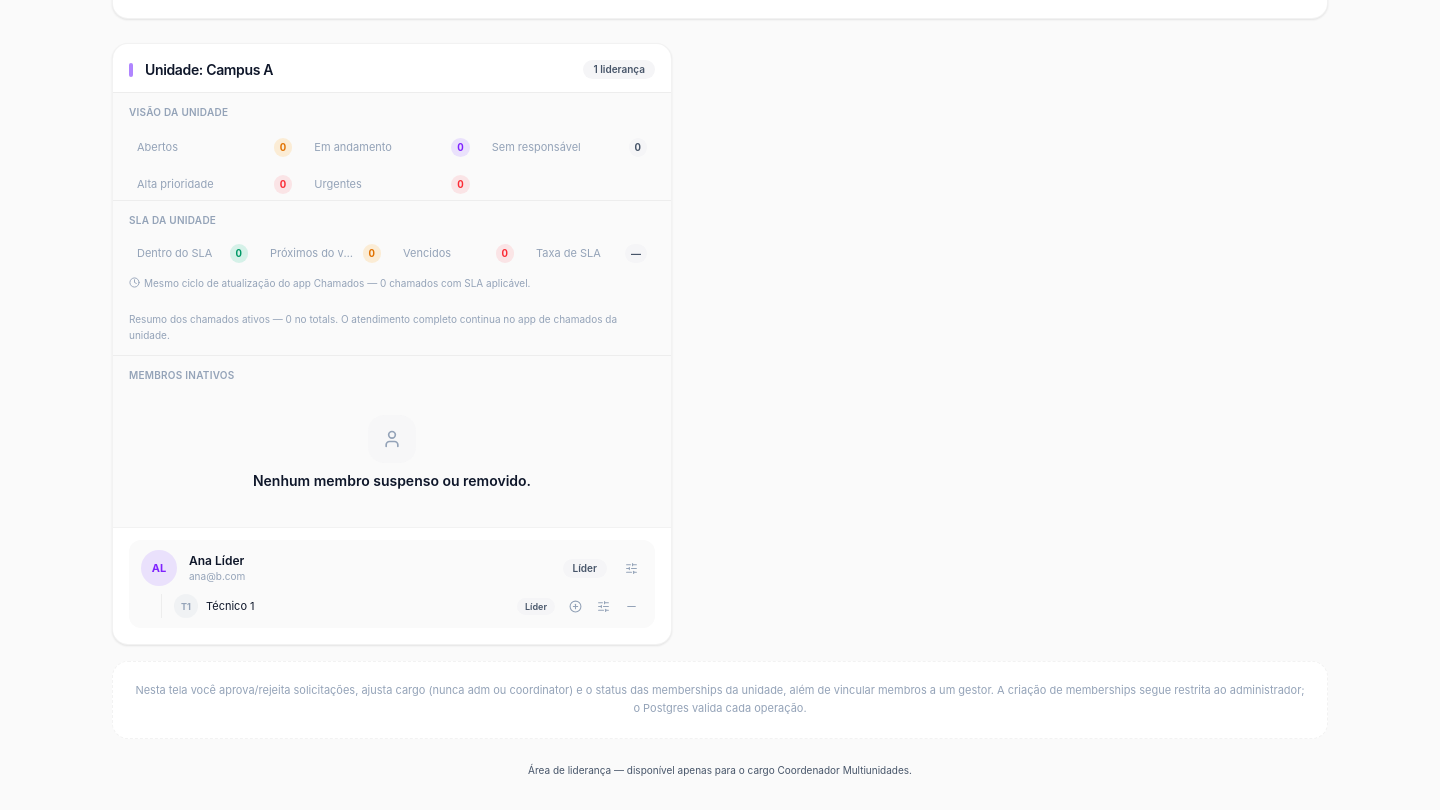
Test case: CoordinatorHome (Área do Coordenador — gestão por RPC escopada) › gestão de cargo e status (setCoordinatorRole / suspend / remove) › oferece SOMENTE tec/vis/est/opv/lider e pré-seleciona o cargo atual
(page scrolled)
Click the button named "Gerenciar Técnico 1" at (603, 606), box x1=591 y1=594 x2=615 y2=618
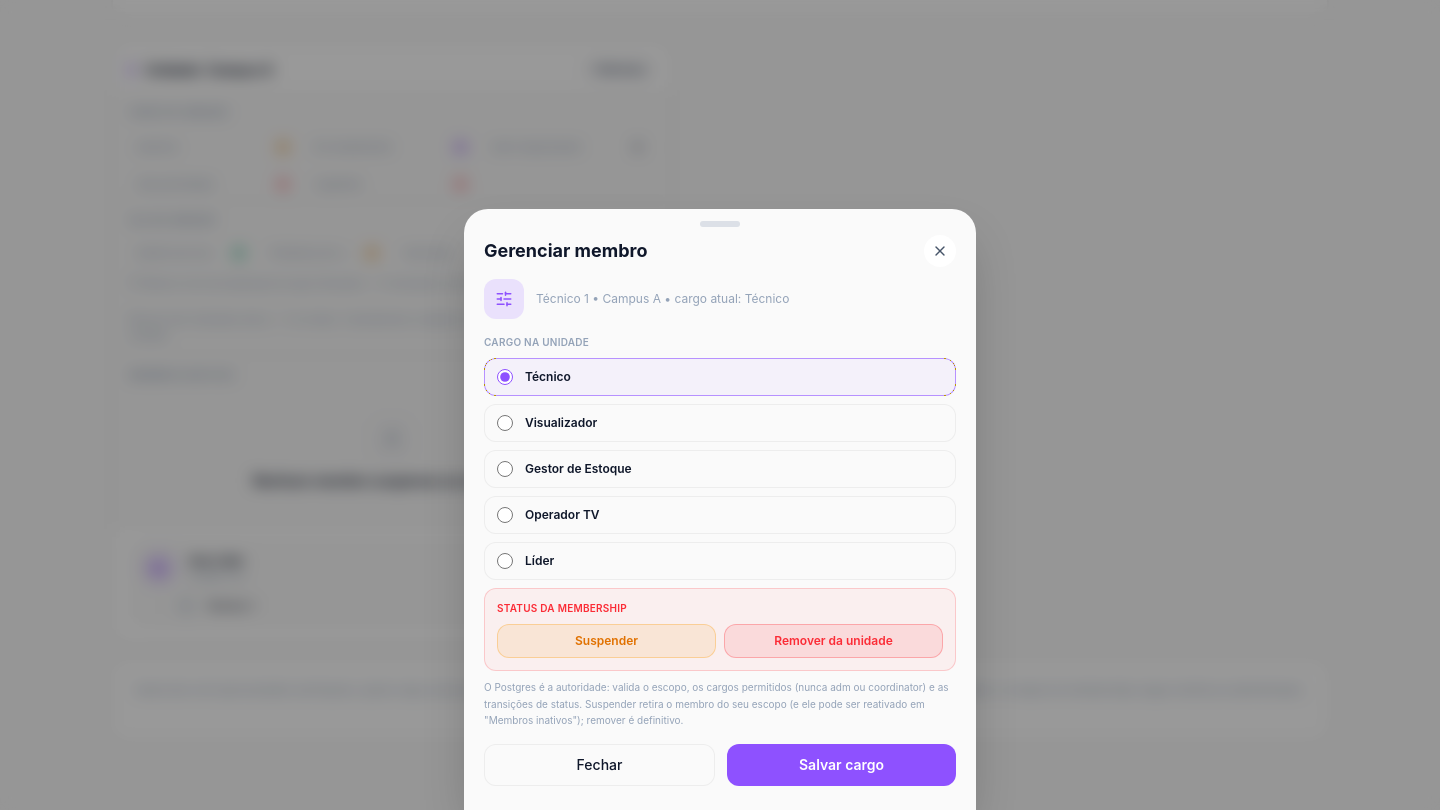
Now the radio button labelled "Técnico" is checked, box x1=497 y1=369 x2=513 y2=385
